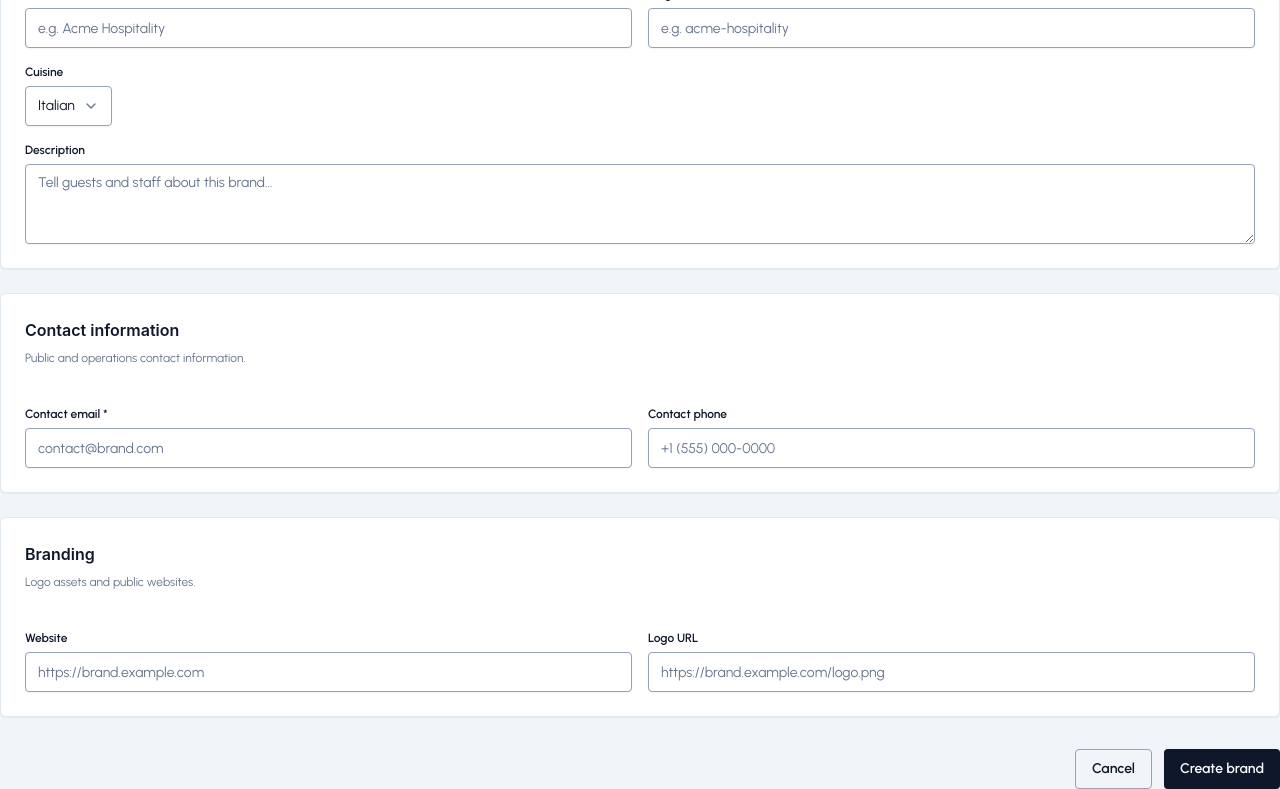
Test: BrandForm › renders form fields and validates required fields on submit
(page scrolled)
Expected: the field labelled "Name *" is shown, [25, 8, 632, 48]
Expected: the field labelled "Slug *" is shown, [648, 8, 1255, 48]
Step 1. Click the button "Create brand" → (1222, 769), box [1164, 749, 1279, 788]
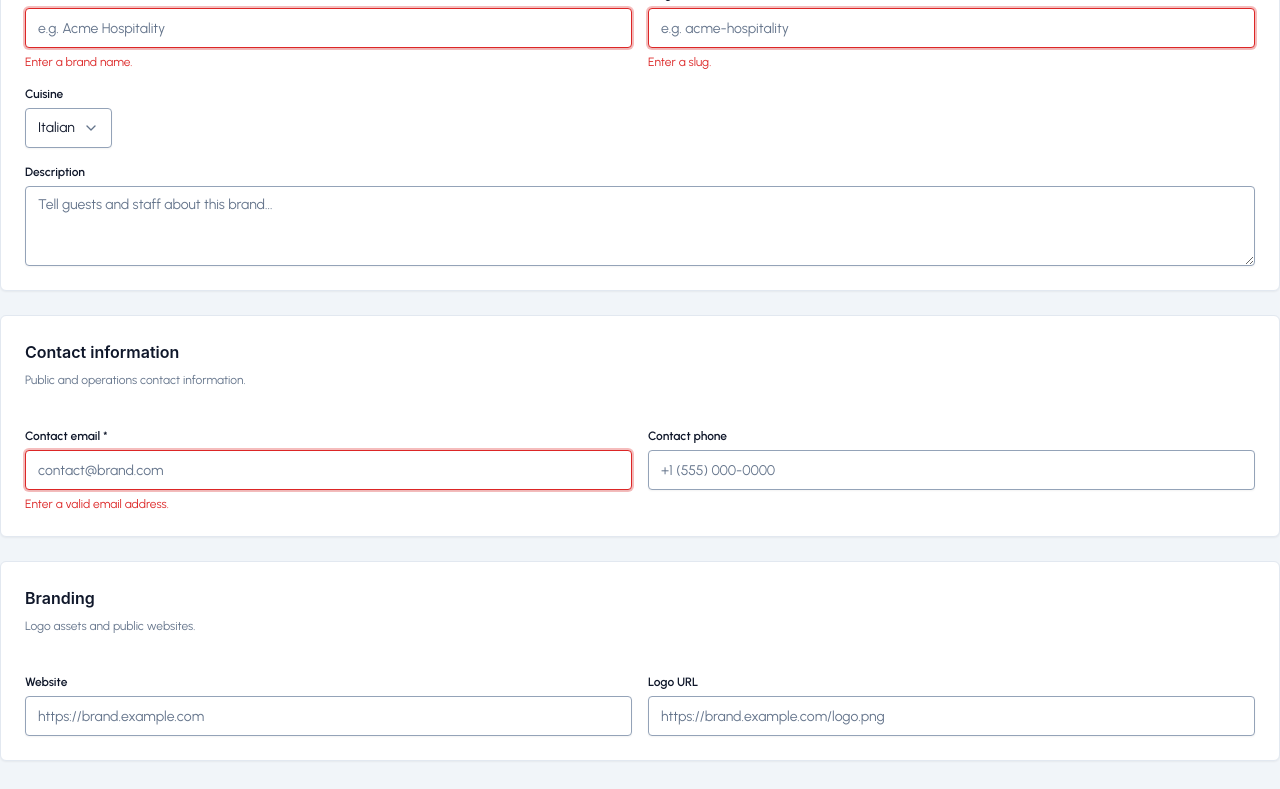
Expected: the text "Enter a brand name." is shown, [25, 55, 132, 69]
Expected: the text "Enter a slug." is shown, [648, 55, 711, 69]
